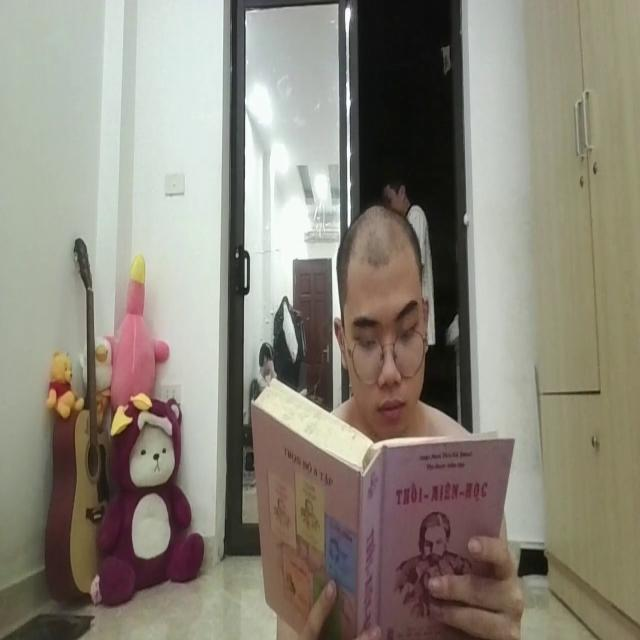book: (254, 373, 513, 624)
extra_person: (384, 159, 434, 258)
student: (331, 202, 429, 433)
